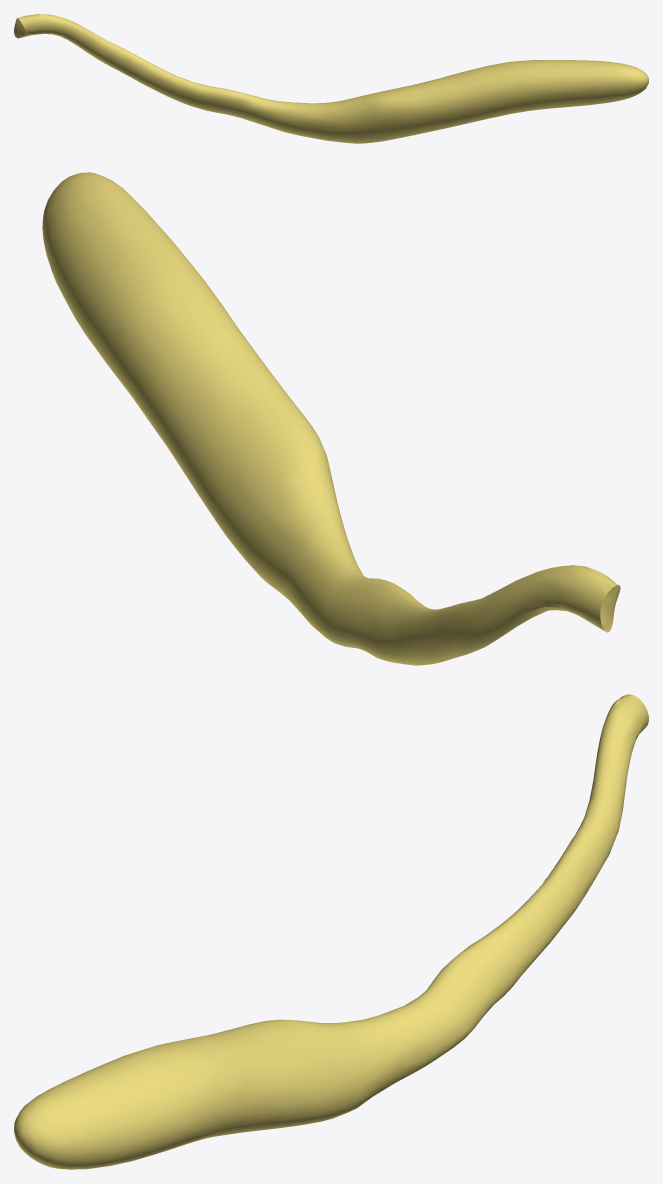
File: peduncle-of-flocculus-l.glb
The picture shows the model from 3 angles, top to bottom: view 1: azimuth 30°, elevation 25°; view 2: azimuth 150°, elevation 25°; view 3: azimuth 270°, elevation 25°; orthographic projection. The views are drawn at different scales.
Parts seen in each view (by area): view 1: Peduncle of flocculus.l; view 2: Peduncle of flocculus.l; view 3: Peduncle of flocculus.l.
Part boxes in pixels (x1,y1,x2,y2): Peduncle of flocculus.l: (14,14,648,143); Peduncle of flocculus.l: (42,172,620,665); Peduncle of flocculus.l: (14,694,648,1169).
Size of the model in its own units: 0.0333 by 0.00868 by 0.0236.
